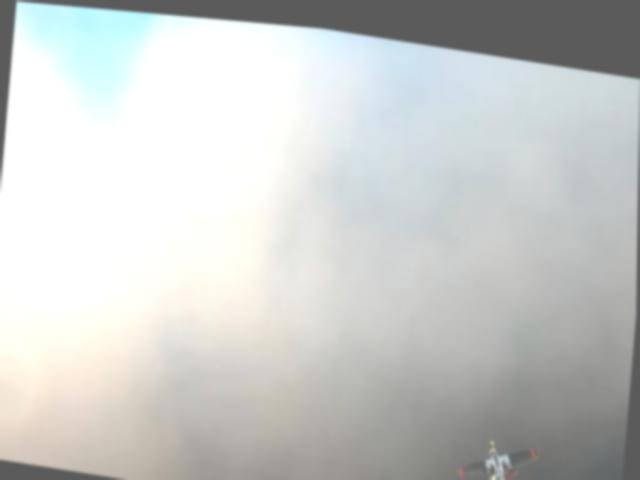iha: (455, 414, 544, 480)
